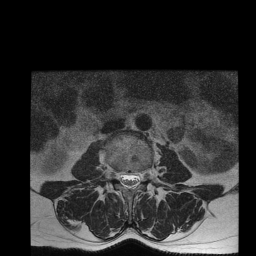CCS_normal: (126, 164, 133, 195)
LFS_normal: (140, 162, 147, 188)
LLS_normal: (133, 164, 140, 193)
RFS_normal: (112, 162, 119, 185)
RLS_normal: (119, 164, 126, 192)
